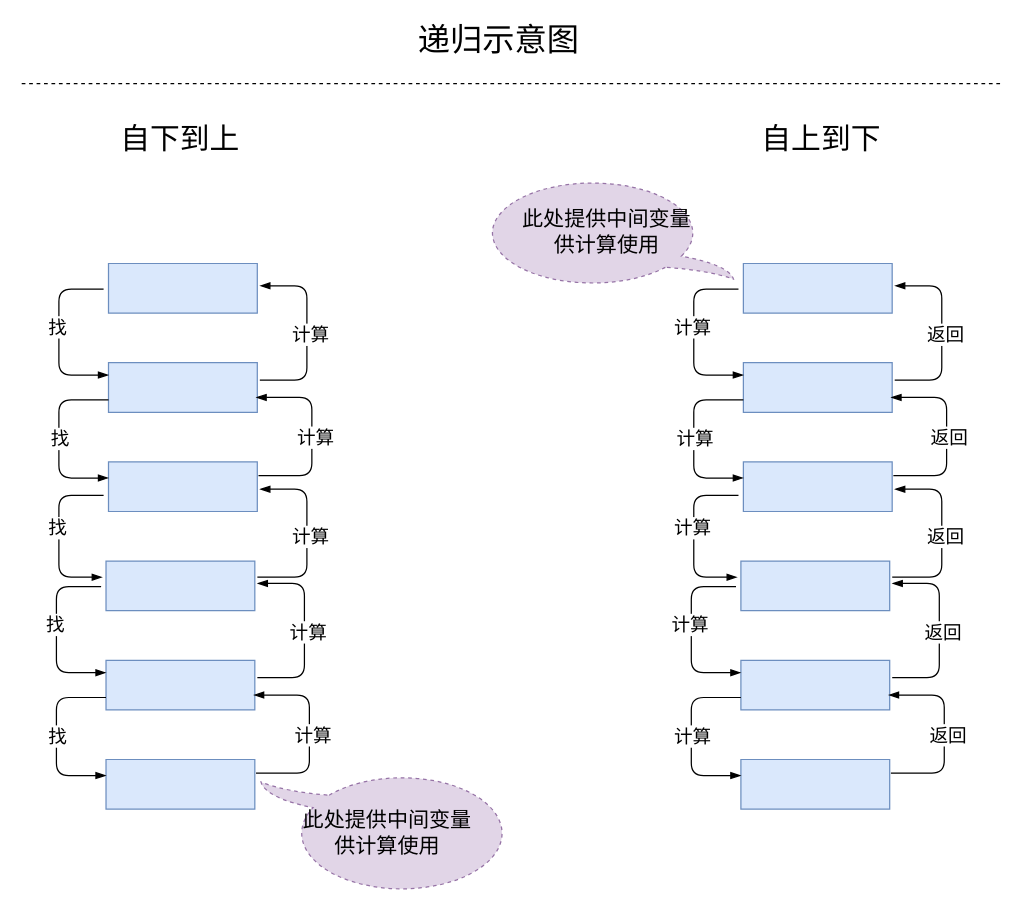
This 1023x918 diagram has some shape labels left out. The centre of each missing label's shape, as x and y in pixels:
叶子节点，跳出后开始计算: (x=180, y=783)
叶子节点，跳出后计算完成: (x=815, y=783)
